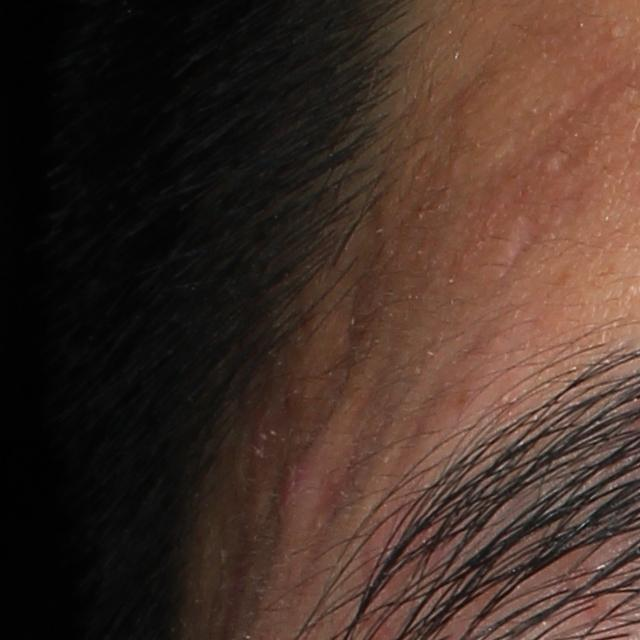comedo: (607, 19, 625, 40)
papule: (275, 451, 322, 543)
